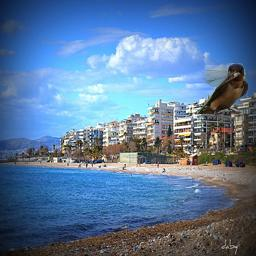Swallow: (197, 63, 248, 121)
